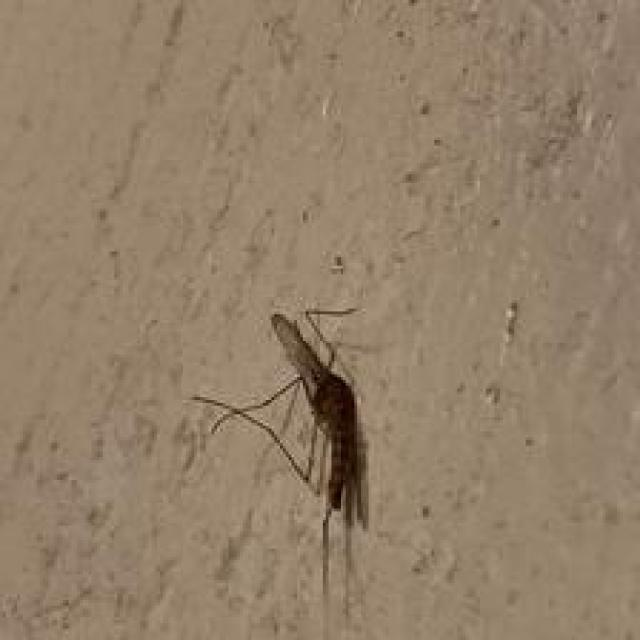Culex: (192, 304, 374, 639)
